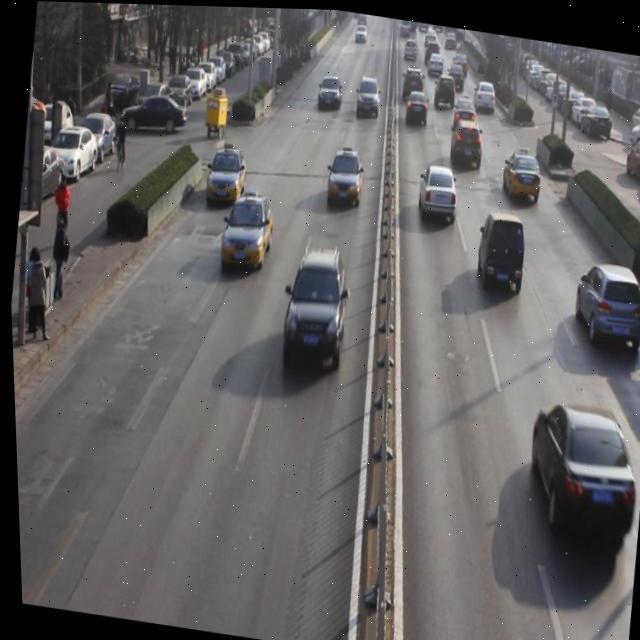car: (515, 392, 640, 557), (272, 244, 354, 373), (567, 256, 640, 353), (216, 190, 277, 274), (412, 160, 462, 227), (201, 142, 249, 208), (321, 145, 365, 214), (496, 145, 544, 203), (446, 118, 484, 169), (352, 71, 383, 121), (313, 72, 343, 113), (401, 85, 430, 127), (470, 77, 497, 115), (449, 92, 475, 131), (430, 71, 455, 111), (400, 61, 425, 101)
truck: (469, 207, 530, 300)
